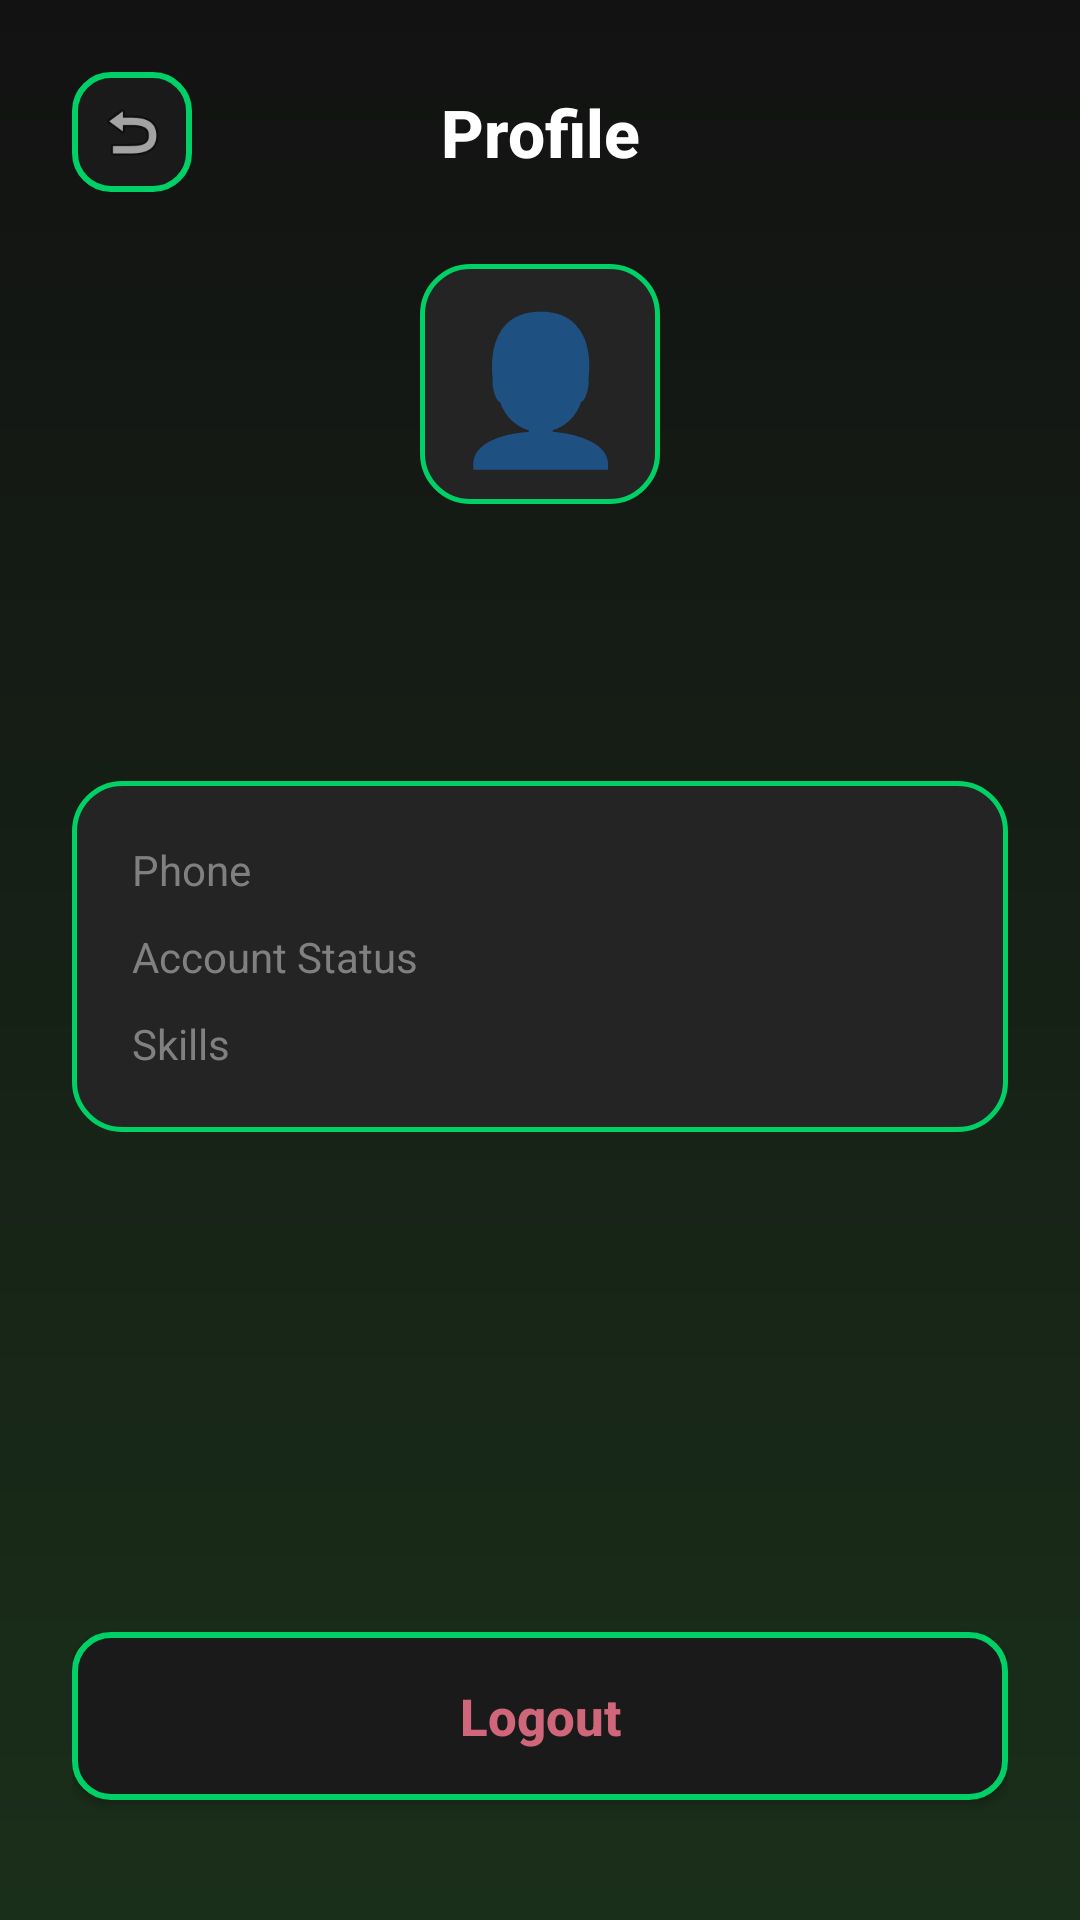

Locate icon controls on the screen. Image size 1080×1920, boxes as (x1, y1, x2, y2).
Back: (72, 72, 192, 192)
